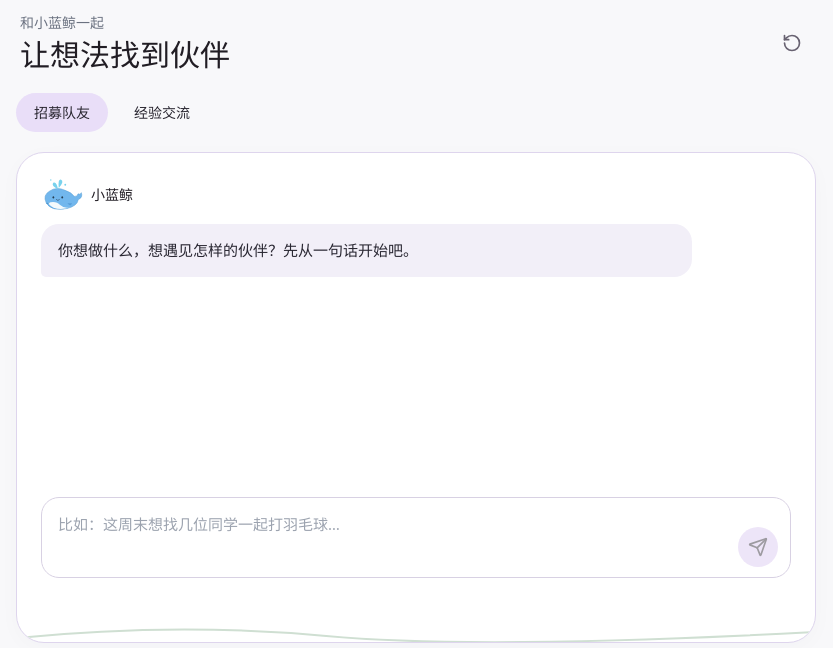
it: conversational publishing › preserves the four-field workflow state between turns and trusts its completion flag
The image size is (833, 648).
Type "周末想打羽毛球" into the text box named "描述你的想法" at (392, 538), box top-left (58, 508), bottom-right (726, 567)
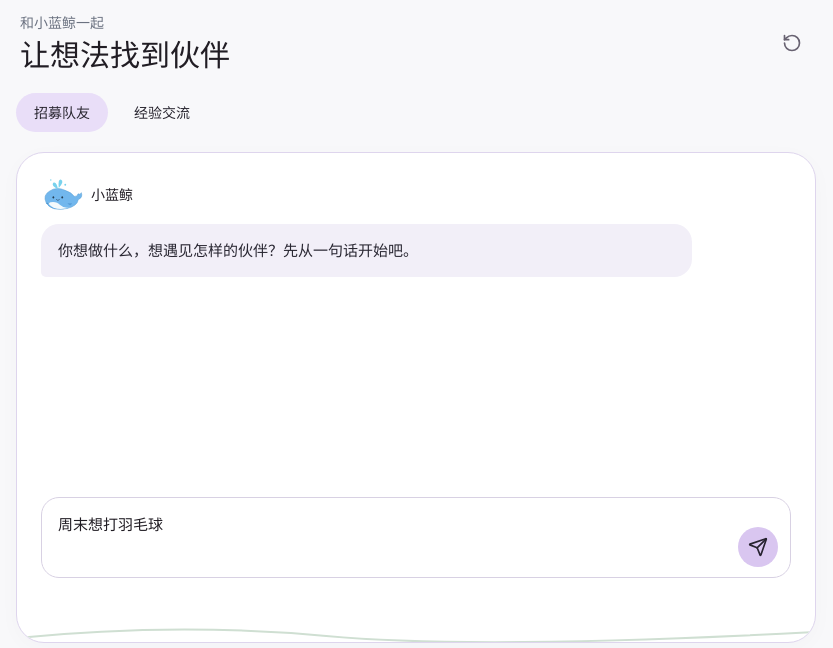
Click the button named "发送" at (758, 547), box top-left (738, 527), bottom-right (778, 567)
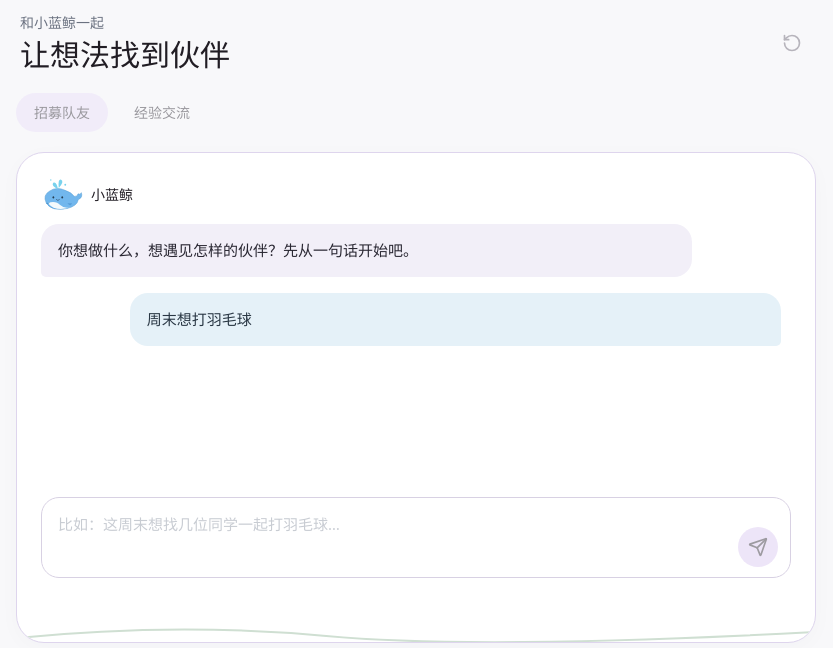
Type "南京" into the text box named "描述你的想法" at (392, 538), box top-left (58, 508), bottom-right (726, 567)
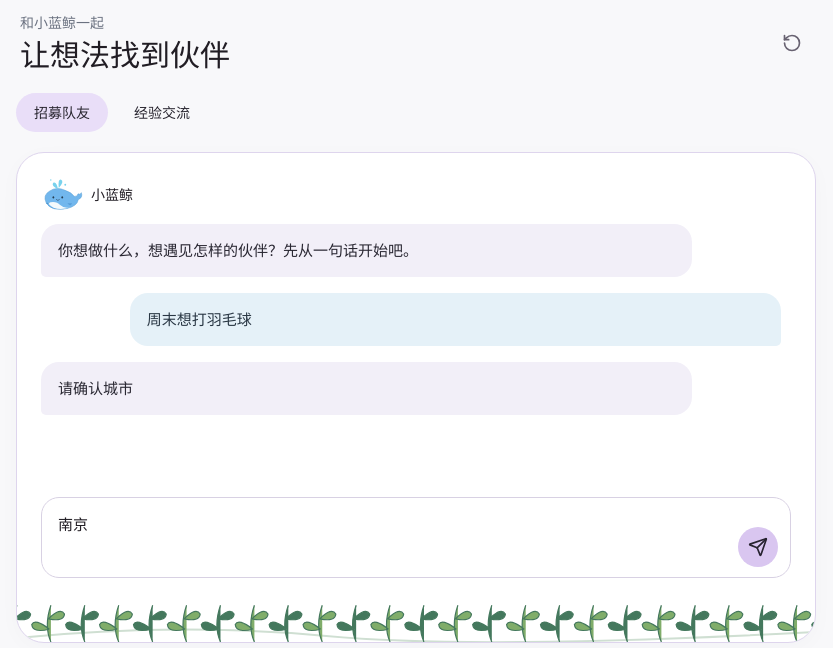
Click the button named "发送" at (758, 547), box top-left (738, 527), bottom-right (778, 567)
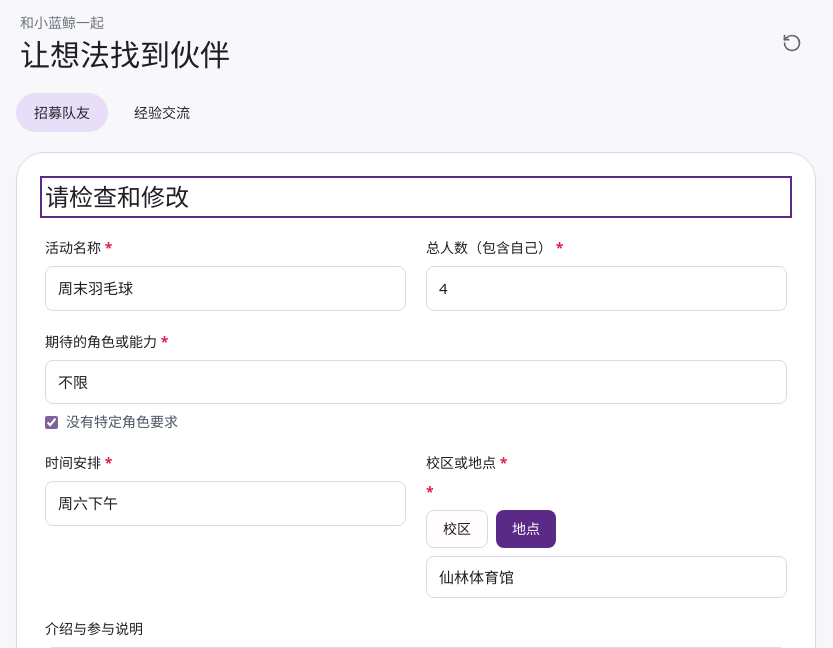
Check: the heading "请检查和修改" is shown, box top-left (45, 180), bottom-right (189, 213)
